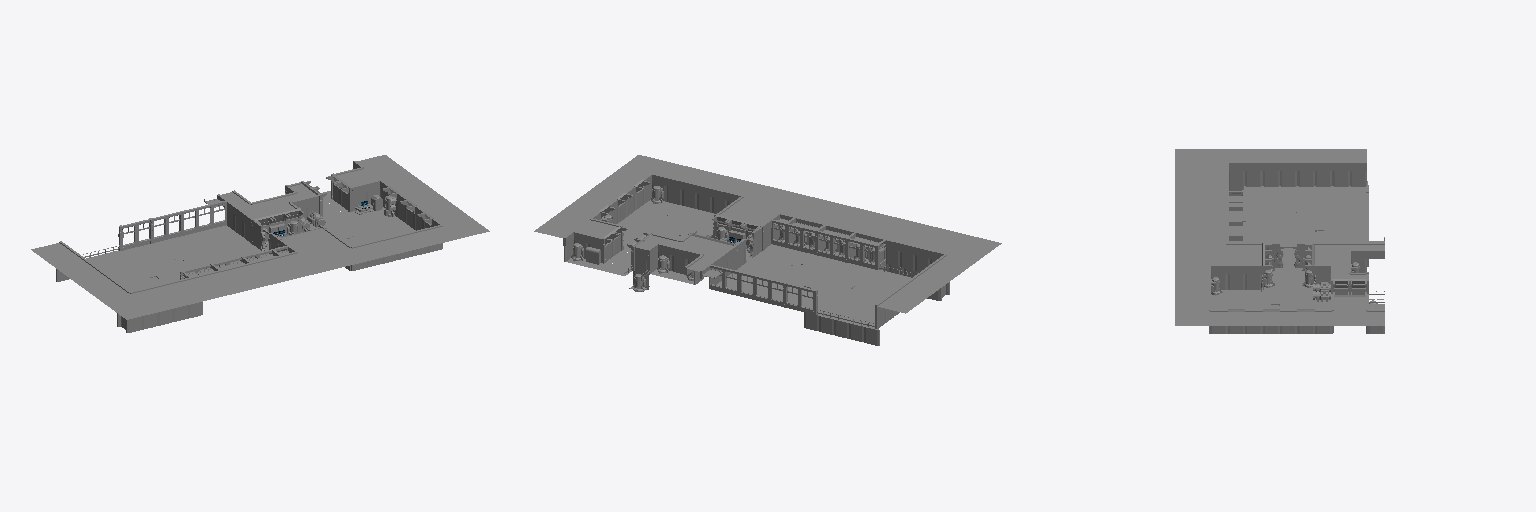
3 renders of one model, left to right at view 1: azimuth 30°, elevation 25°; view 2: azimuth 150°, elevation 25°; view 3: azimuth 270°, elevation 25°, orthographic.
Bounding box in the file's own units: 96 × 10.26 × 48.
Materials: 2 (1 with a texture image).